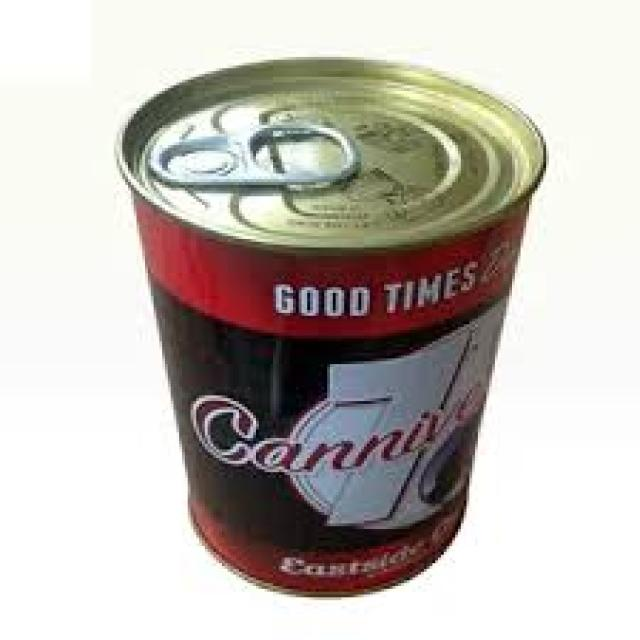Cans: (102, 43, 552, 600)
